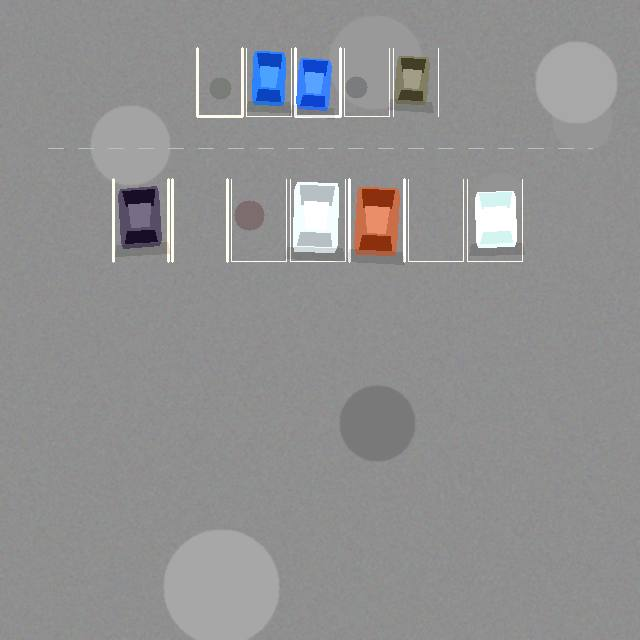space-empty: (172, 179, 227, 261), (231, 179, 286, 261), (408, 179, 463, 261), (197, 48, 242, 116), (344, 48, 389, 116)
space-occupied: (113, 179, 168, 261), (290, 179, 345, 261), (349, 179, 404, 261), (467, 179, 522, 261), (246, 48, 291, 116), (295, 48, 340, 116), (393, 48, 438, 116)
